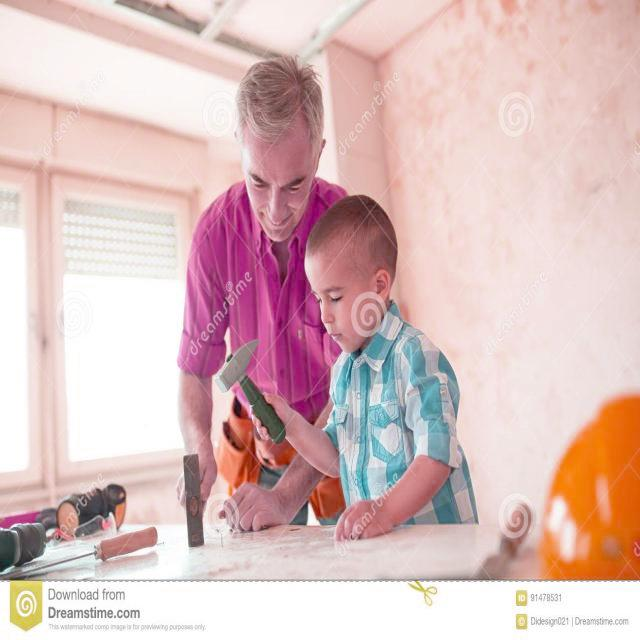hammer: (212, 330, 292, 452), (176, 436, 213, 550)
